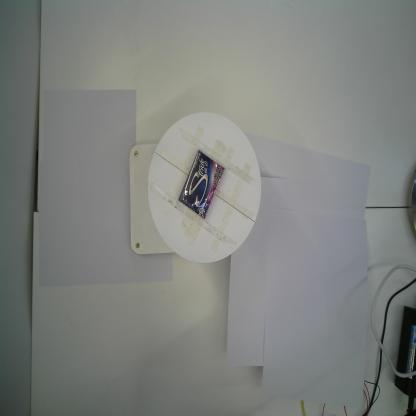Gum: (177, 147, 226, 220)
